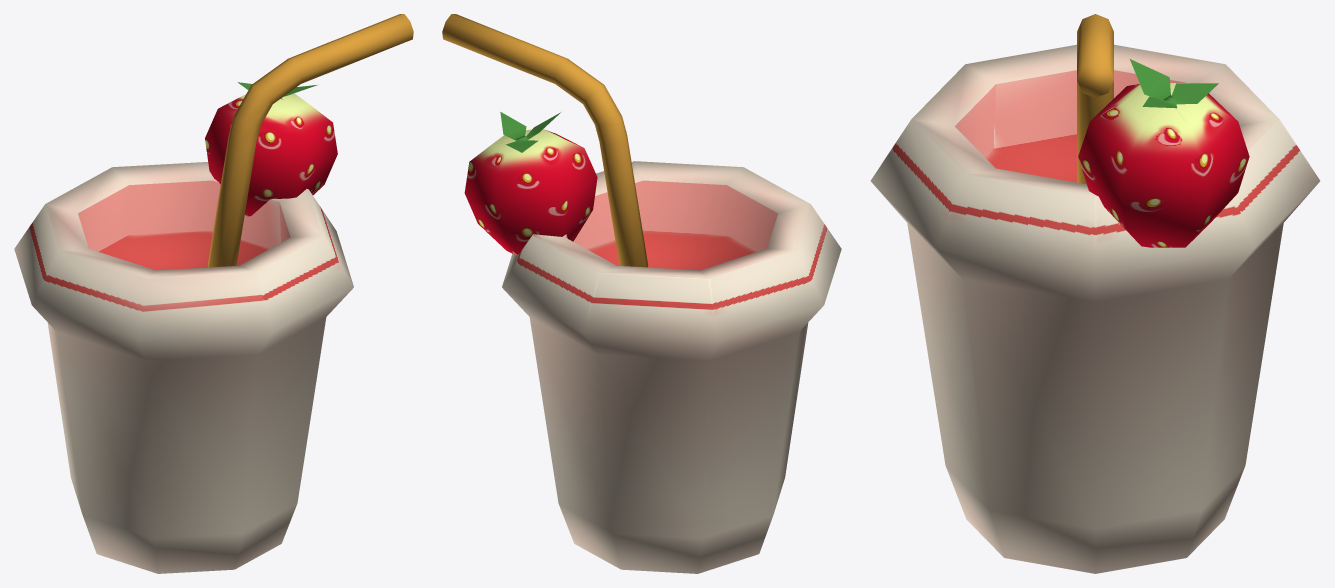
Rendered from strawberry.glb.
3 renders of one model, left to right at view 1: azimuth 30°, elevation 25°; view 2: azimuth 150°, elevation 25°; view 3: azimuth 270°, elevation 25°, orthographic. The views are drawn at different scales.
Visible parts, largest first — view 1: Cylinder.002, Cylinder.003, Sphere.002; view 2: Cylinder.002, Sphere.002, Cylinder.003; view 3: Cylinder.002, Sphere.002, Cylinder.003.
Boxes of the visible parts, x1,y1,x2,y2 form: Cylinder.002: [14, 162, 353, 573]; Cylinder.003: [207, 14, 413, 267]; Sphere.002: [205, 82, 337, 216]; Cylinder.002: [502, 161, 841, 573]; Sphere.002: [464, 112, 597, 255]; Cylinder.003: [442, 14, 648, 267]; Cylinder.002: [870, 44, 1320, 573]; Sphere.002: [1078, 59, 1249, 247]; Cylinder.003: [1077, 14, 1113, 184].
Size of the model in its own units: 0.2456 by 0.2898 by 0.1988.
3 materials, 2 textured.
